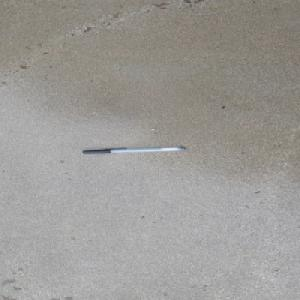Pen: (81, 146, 186, 154)
